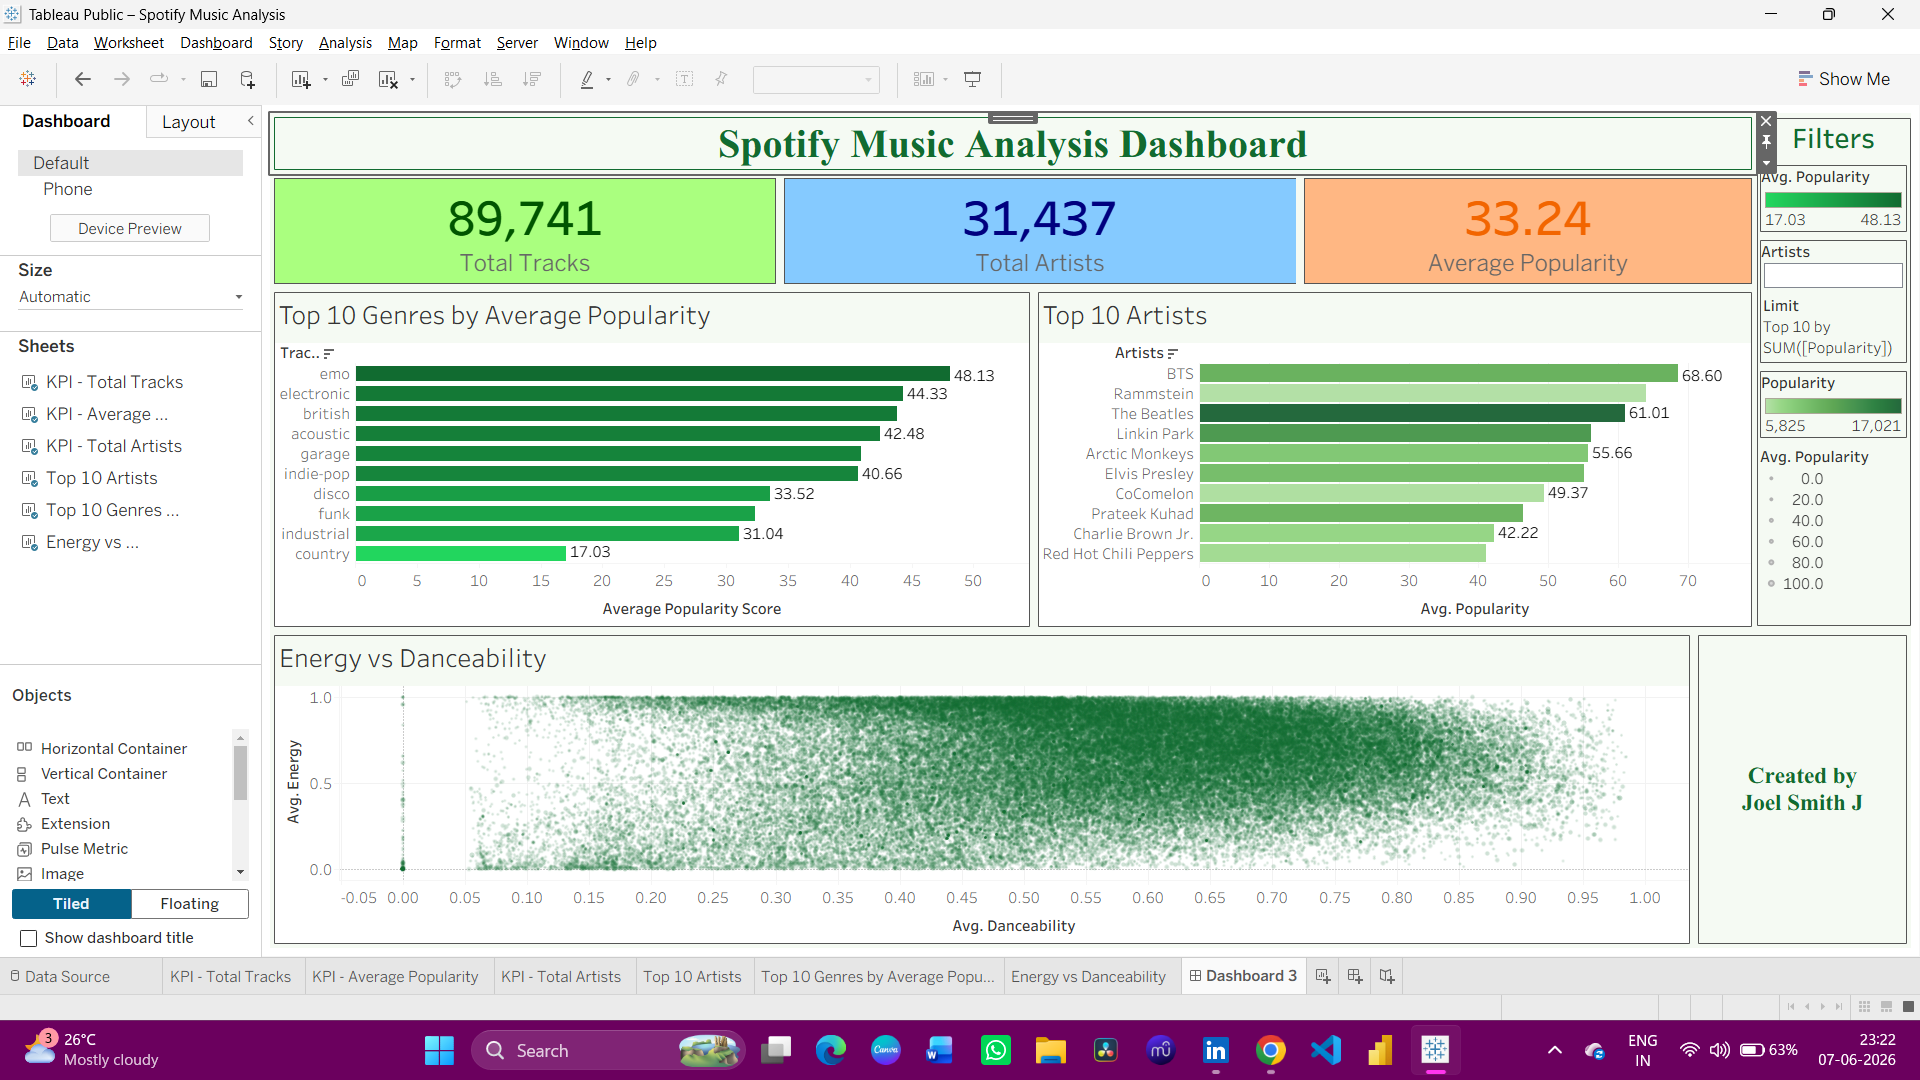

Layout of this report page (visuals, bound fields, positions):
{"tool":"tableau","page":{"name":"Dashboard 3","canvas":[1000,1000],"units":"permille","ordinal":1},"visuals":[{"type":"title","box":[4.8,9.4,896.8,71.7]},{"type":"text","box":[901.6,9.4,93.5,56.4]},{"type":"blank","box":[902.2,15.3,92.9,596.9]},{"type":"legend","title":"Top 10 Genres by Average Popularity","param":"[federated.0sbrmuq0qwdb3m0zqn6p601rafvm].[avg:popularity:qk]","box":[901.6,65.8,93.5,88.1]},{"type":"worksheet","title":"KPI - Total Tracks","mark":"Text","box":[4.8,81.1,307.6,134.5]},{"type":"worksheet","title":"KPI - Total Artists","mark":"Automatic","box":[312.4,81.1,314.3,134.5]},{"type":"worksheet","title":"KPI - Average Popularity","mark":"Text","box":[626.7,81.1,274.9,134.5]},{"type":"filter","title":"Top 10 Artists","param":"[federated.0sbrmuq0qwdb3m0zqn6p601rafvm].[none:artists:nk]","box":[901.6,153.9,93.5,153.9]},{"type":"worksheet","title":"Top 10 Genres by Average Popularity","mark":"Automatic","rows":["track_genre"],"cols":["popularity"],"box":[4.8,215.6,460.8,402.5]},{"type":"worksheet","title":"Top 10 Artists","mark":"Automatic","rows":["artists"],"cols":["popularity"],"box":[465.6,215.6,436,402.5]},{"type":"legend","title":"Top 10 Artists","param":"[federated.0sbrmuq0qwdb3m0zqn6p601rafvm].[sum:popularity:qk]","box":[901.6,307.9,93.5,88.1]},{"type":"legend","title":"Energy vs Danceability","param":"[federated.0sbrmuq0qwdb3m0zqn6p601rafvm].[avg:popularity:qk]","box":[901.6,396,93.5,191.5]},{"type":"worksheet","title":"Energy vs Danceability","mark":"Circle","rows":["energy"],"cols":["danceability"],"box":[4.8,618.1,859.4,372.5]},{"type":"text","box":[864.2,618.1,131,372.5]}]}

Visuals, with their boxes on the dashboard's canvas, which has no fixed pixel size, in thousandths of its width and height (x1, y1, x2, y2). These are canvas units, not pixel positions in the 1920x1080 screenshot, which may show the page scaled, cropped or inside an application window:
title: crop(5, 9, 902, 81)
text: crop(902, 9, 995, 66)
blank: crop(902, 15, 995, 612)
"Top 10 Genres by Average Popularity" legend: crop(902, 66, 995, 154)
"KPI - Total Tracks" worksheet (Text marks): crop(5, 81, 312, 216)
"KPI - Total Artists" worksheet: crop(312, 81, 627, 216)
"KPI - Average Popularity" worksheet (Text marks): crop(627, 81, 902, 216)
"Top 10 Artists" filter: crop(902, 154, 995, 308)
"Top 10 Genres by Average Popularity" worksheet: crop(5, 216, 466, 618)
"Top 10 Artists" worksheet: crop(466, 216, 902, 618)
"Top 10 Artists" legend: crop(902, 308, 995, 396)
"Energy vs Danceability" legend: crop(902, 396, 995, 588)
"Energy vs Danceability" worksheet (Circle marks): crop(5, 618, 864, 991)
text: crop(864, 618, 995, 991)
